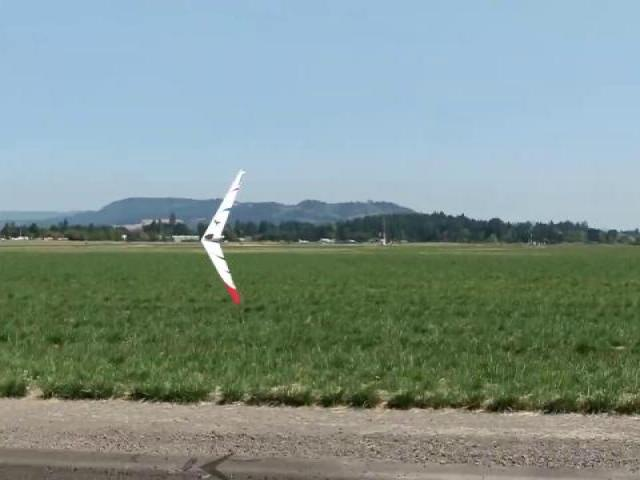flying wing: (200, 165, 249, 308)
